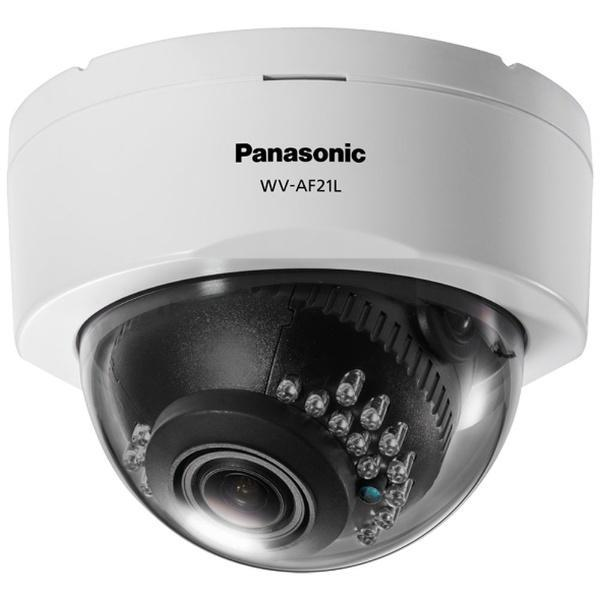maru: (6, 22, 595, 574)
